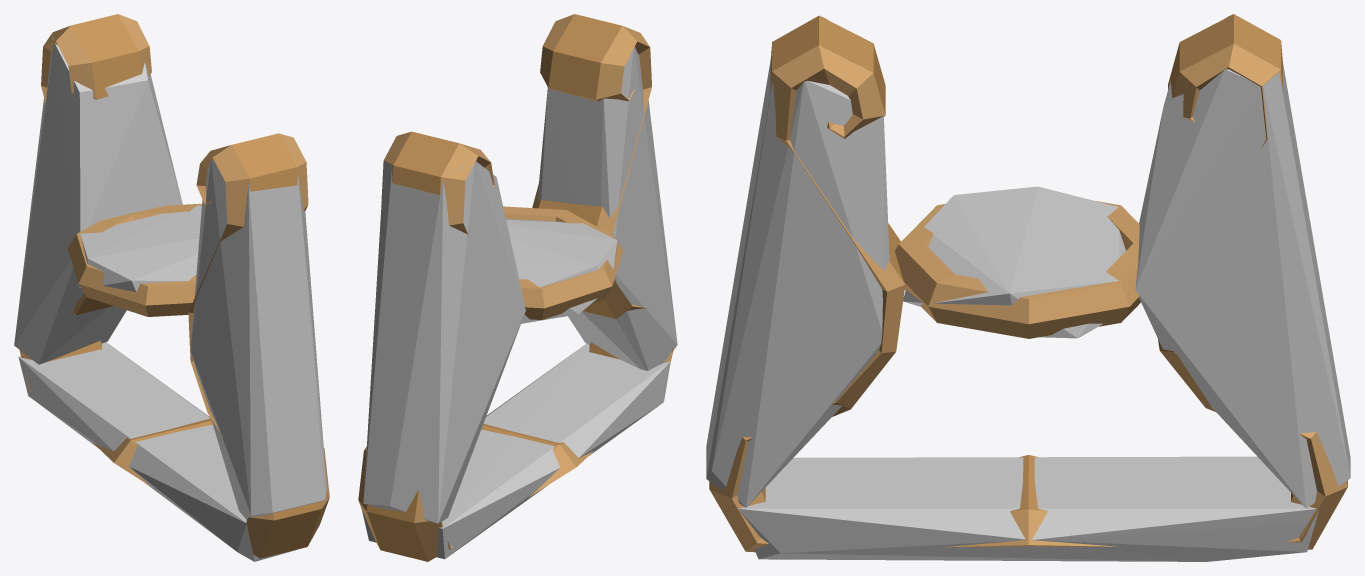
Rendered from SM_Item_Elixir_Holder_01.fbx.
3 renders of one model, left to right at view 1: azimuth 30°, elevation 25°; view 2: azimuth 150°, elevation 25°; view 3: azimuth 270°, elevation 25°, orthographic. The views are drawn at different scales.
Parts seen in each view (by area): view 1: SM_Item_Elixir_Holder_01_ConvexHulls, SM_Item_Elixir_Holder_01; view 2: SM_Item_Elixir_Holder_01_ConvexHulls, SM_Item_Elixir_Holder_01; view 3: SM_Item_Elixir_Holder_01_ConvexHulls, SM_Item_Elixir_Holder_01.
Boxes of the visible parts, x1,y1,x2,y2 form: SM_Item_Elixir_Holder_01_ConvexHulls: (14, 35, 326, 561); SM_Item_Elixir_Holder_01: (19, 14, 329, 558); SM_Item_Elixir_Holder_01_ConvexHulls: (361, 46, 677, 559); SM_Item_Elixir_Holder_01: (358, 14, 673, 561); SM_Item_Elixir_Holder_01_ConvexHulls: (706, 59, 1350, 561); SM_Item_Elixir_Holder_01: (709, 14, 1347, 552).
Bounding box in the file's own units: 17.96 × 40.62 × 35.96.
Materials: 2 (1 with a texture image).
